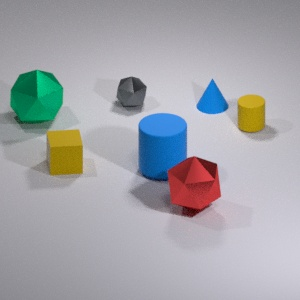lapphuong: (42, 126, 89, 178)
lucgiac: (165, 154, 224, 210), (7, 69, 67, 121), (114, 74, 149, 111)
non: (197, 74, 232, 118)
tru: (135, 112, 187, 183), (236, 92, 268, 134)
